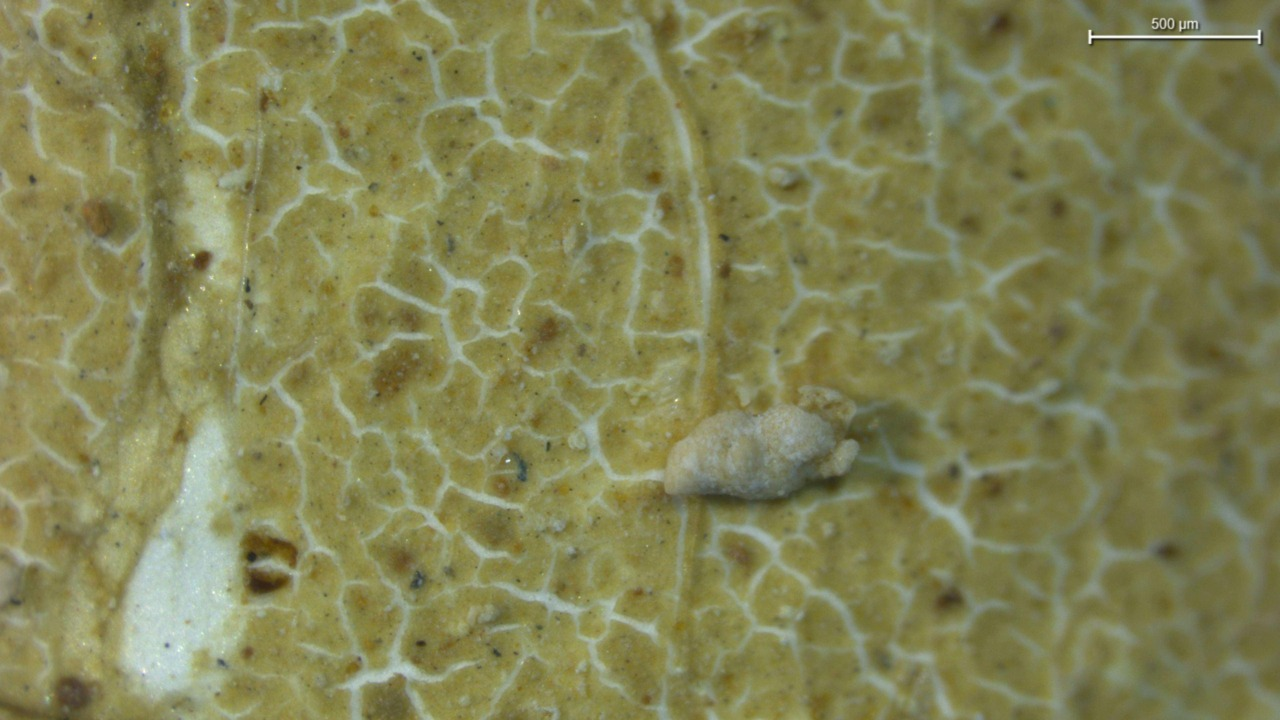microplastic_fragment: (664, 405, 858, 500)
